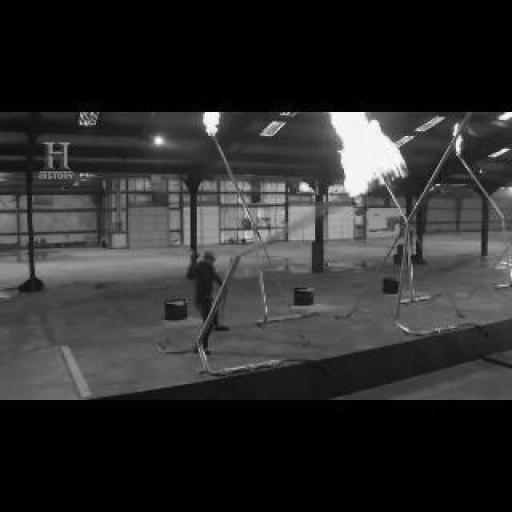smoke: (325, 114, 414, 196), (202, 116, 226, 138), (451, 122, 464, 154)
